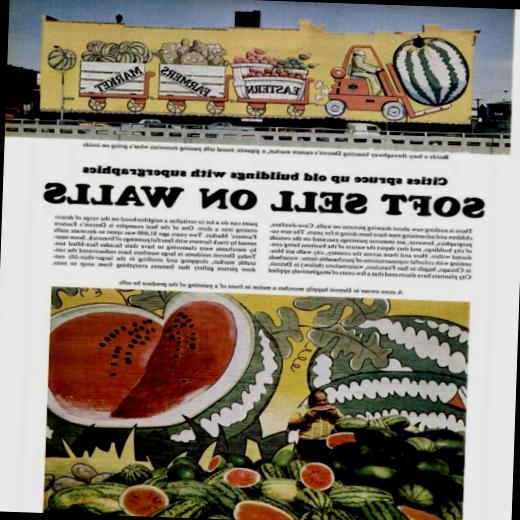Cherry: (41, 284, 473, 520), (393, 34, 470, 108)
